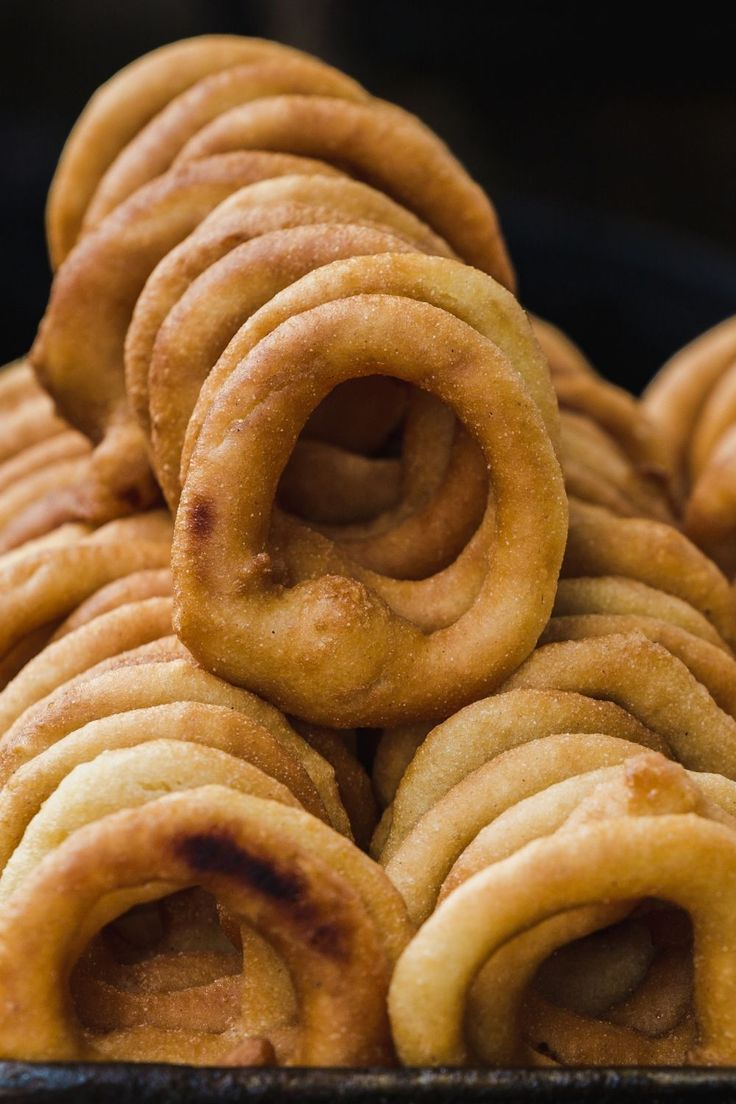sel_roti: (167, 292, 610, 717), (10, 788, 390, 1064), (400, 812, 736, 1072), (295, 95, 518, 270)
